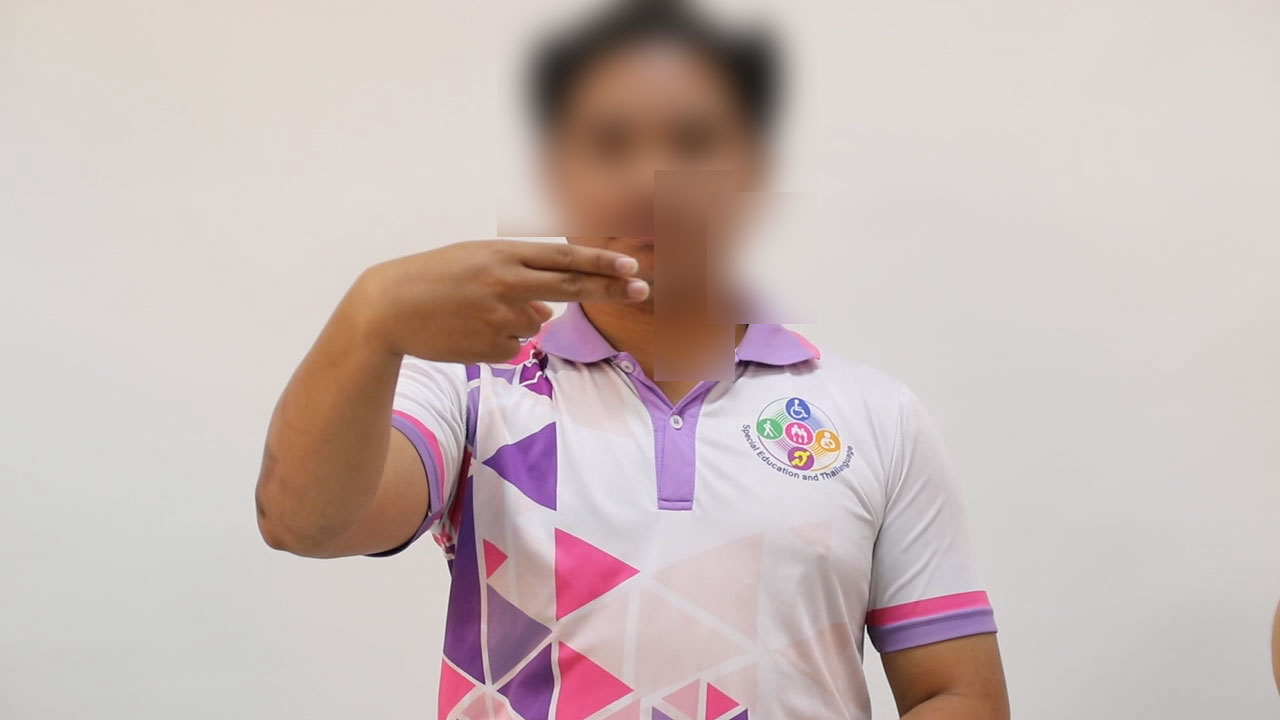hor: (355, 228, 659, 374)
